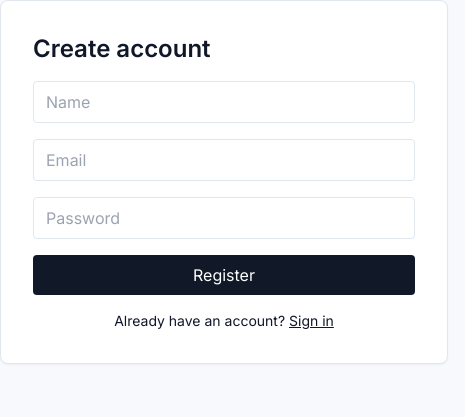
Scenario: RegisterForm › maps API errors and blocks duplicate submit while loading
Step 1. Type "Ada" into the field with placeholder "Name" → (224, 102), box [33,81,415,123]
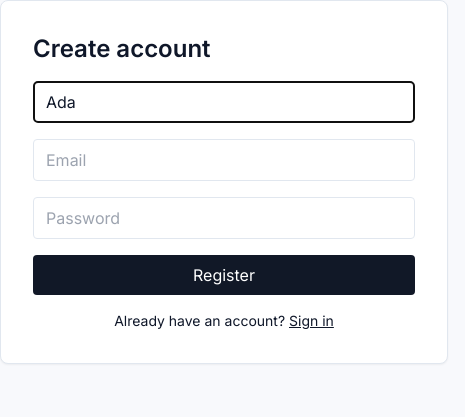
Step 2. Type "ada@example.com" into the field with placeholder "Email" → (224, 160), box [33,139,415,181]
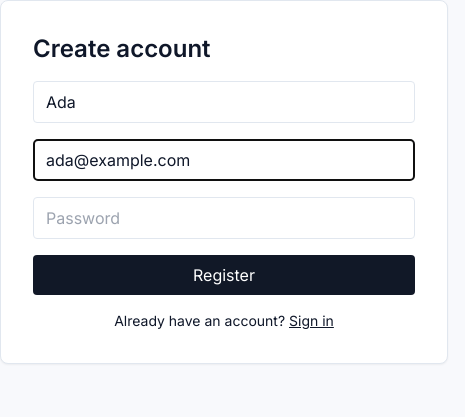
Step 3. Type "Secret123!" into the password field with placeholder "Password" → (224, 218), box [33,197,415,239]
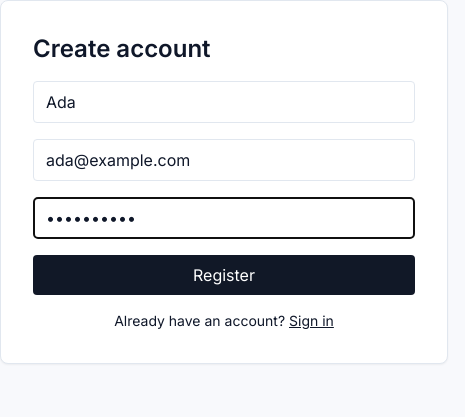
Step 4. Click the button "Register" → (224, 275), box [33,255,415,295]
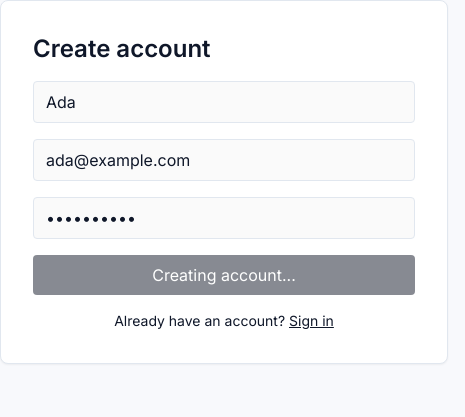
Result: the button "Creating account..." is disabled
Step 5. Click the button "Creating account..." → (224, 275), box [33,255,415,295]
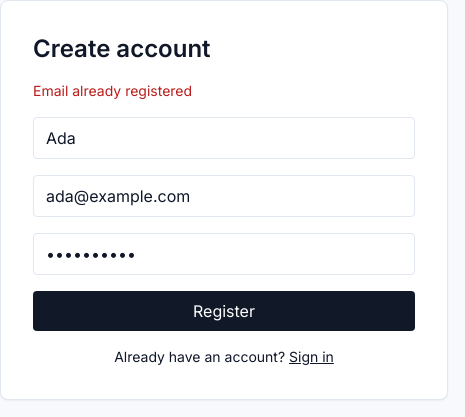
Result: the text "Email already registered" is shown at [33,82,192,99]
